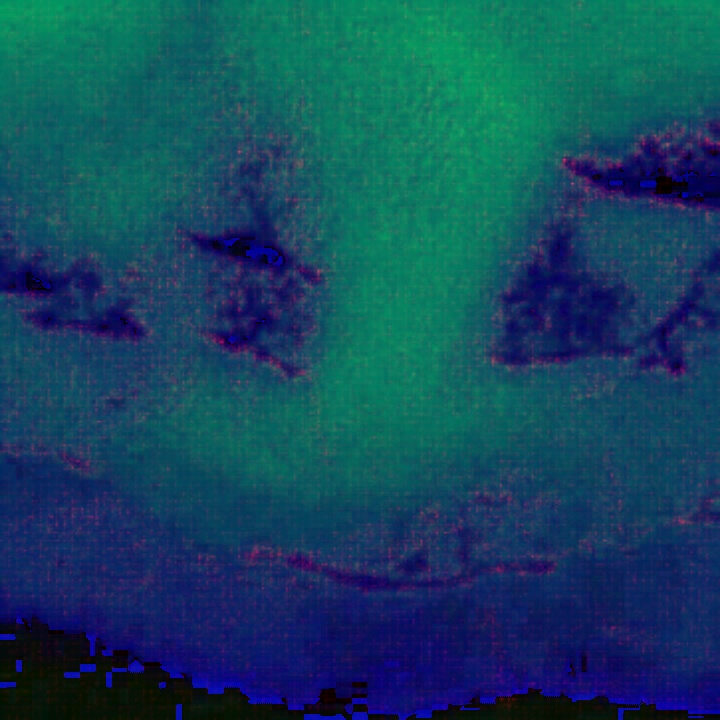rip_current: (156, 103, 540, 524)
